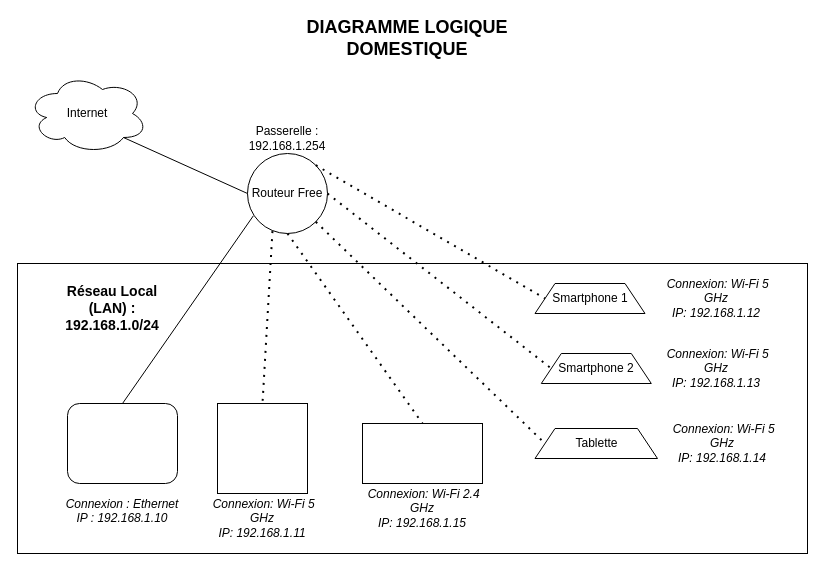
This 825x571 diagram has some shape labels left out. Here are the shapes that lost their labels. From the top down, the box of each, then its label:
(66, 402, 178, 484): TV
(216, 402, 308, 494): PC Portable
(362, 422, 482, 484): Imprimante
